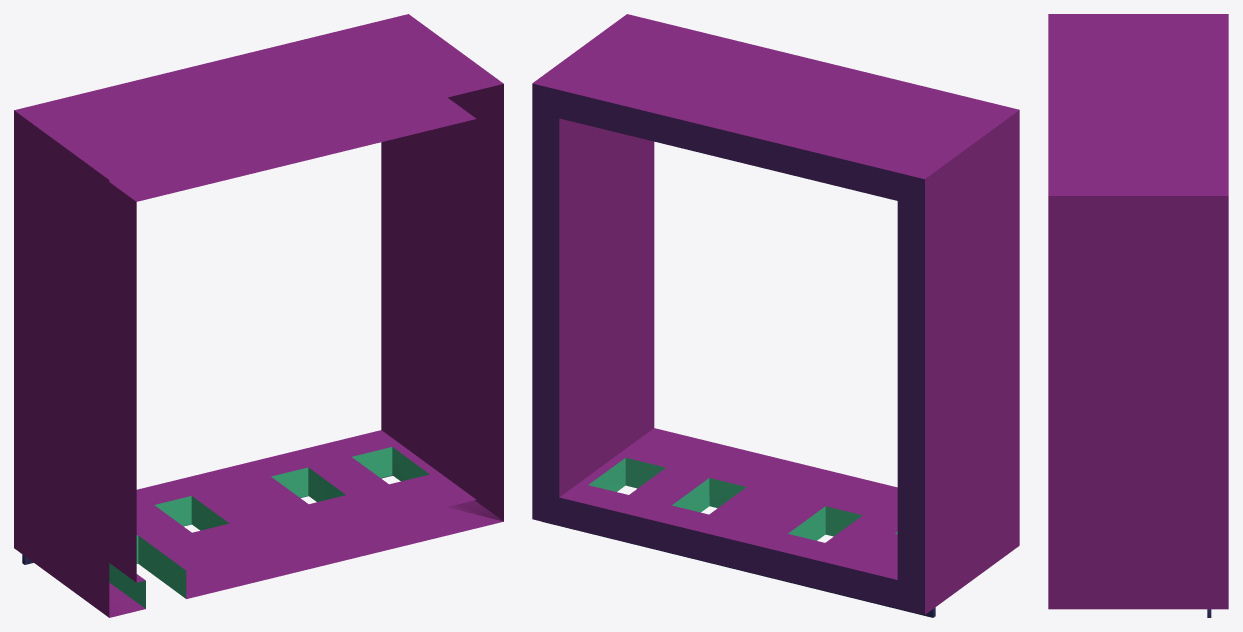
The model's file is Dom Gąski Tier 1.fbx.
3 renders of one model, left to right at view 1: azimuth 30°, elevation 25°; view 2: azimuth 150°, elevation 25°; view 3: azimuth 270°, elevation 25°, orthographic. The views are drawn at different scales.
Visible parts, largest first — view 1: dom_gąski_w_radomiu_2; view 2: dom_gąski_w_radomiu_2; view 3: dom_gąski_w_radomiu_2.
Part boxes in pixels (x1,y1,x2,y2): dom_gąski_w_radomiu_2: [14, 14, 503, 617]; dom_gąski_w_radomiu_2: [532, 14, 1019, 617]; dom_gąski_w_radomiu_2: [1048, 14, 1228, 617].
Bounding box in the file's own units: 2.94 × 3.18 × 1.23.
